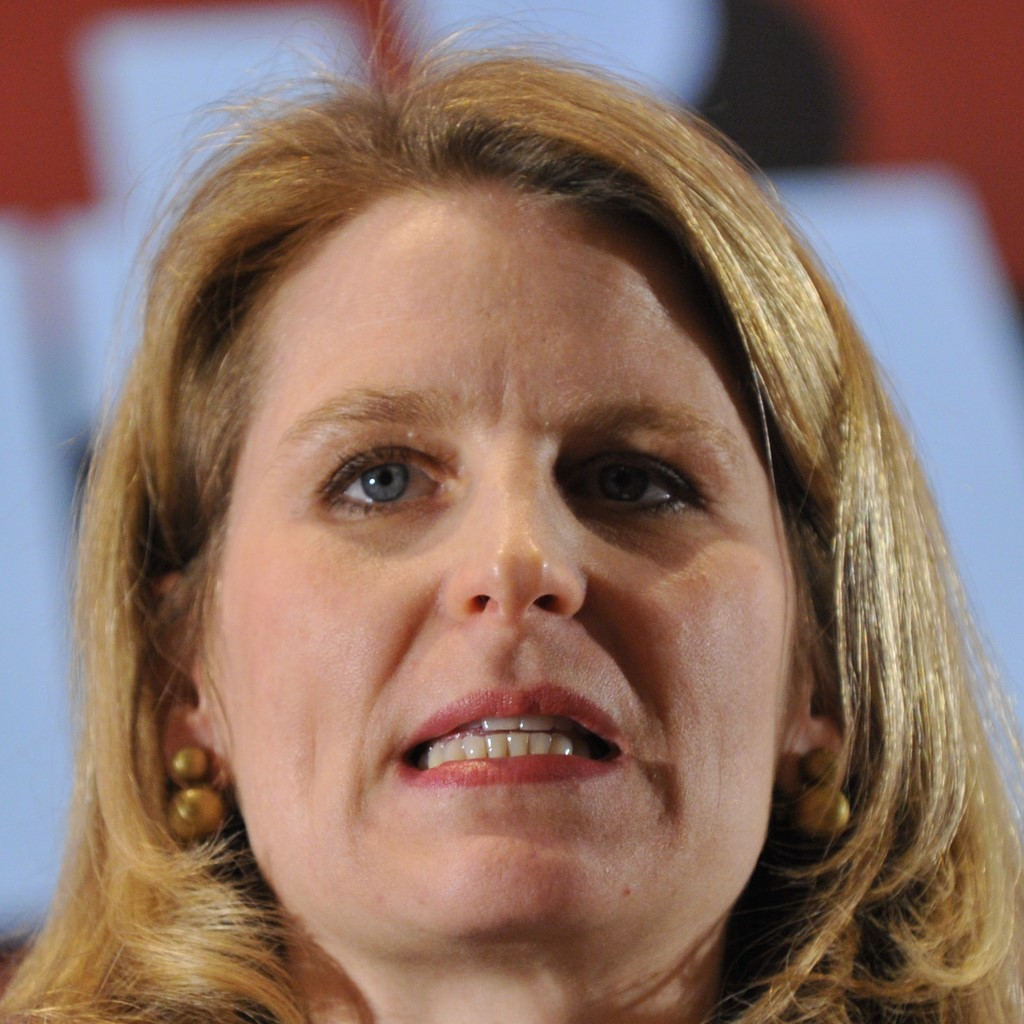sin_mascara: (199, 202, 811, 982)
